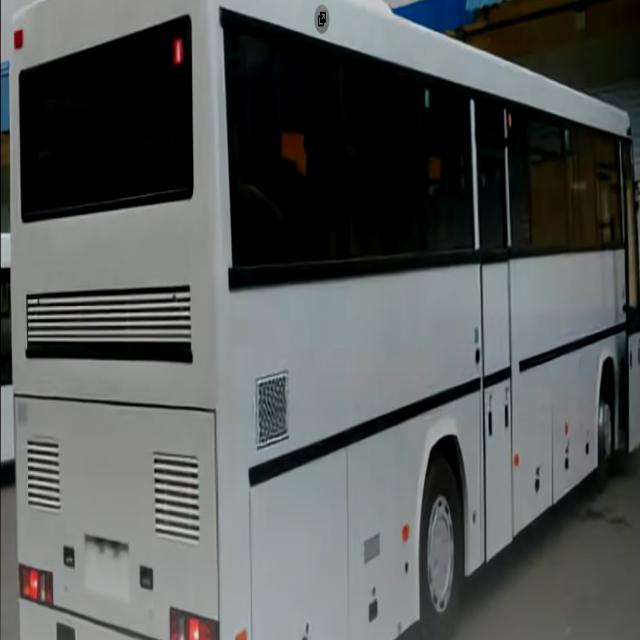bus: (5, 3, 640, 640)
